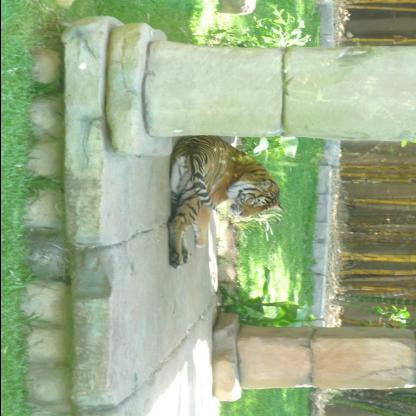tiger: (222, 176, 282, 223)
